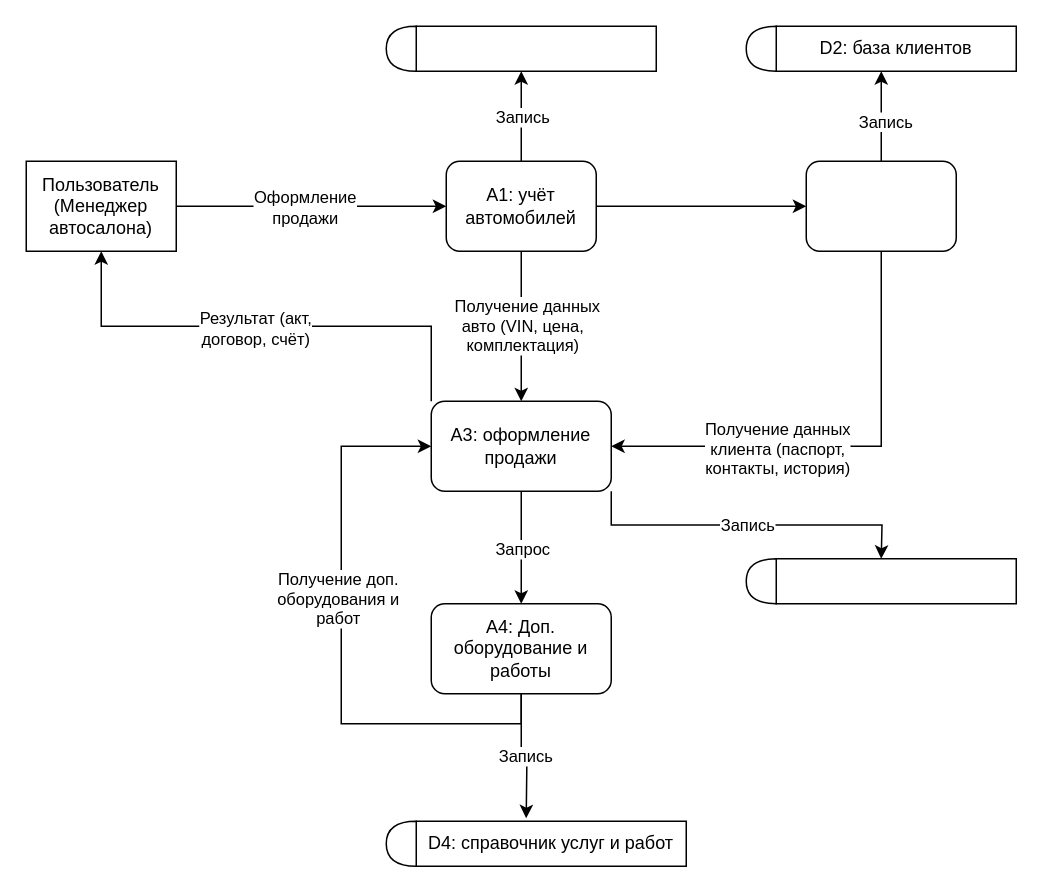
Some shapes in this 1043 by 893 pixel diagram are drawn without their labels. The centre of each missing label's shape, as x and y in pixels:
"A2: управление клиентами" goes at [880,205].
"D1: каталог автомобилей" goes at [535,48].
"D3: история продаж" goes at [895,580].
